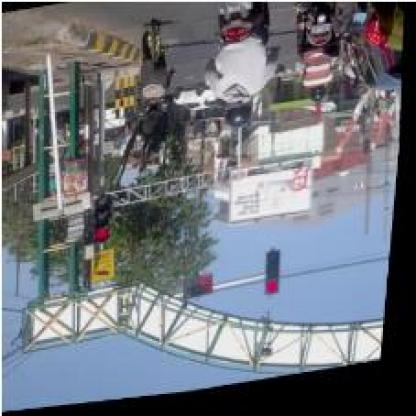red: (94, 197, 115, 246), (267, 256, 286, 302)
